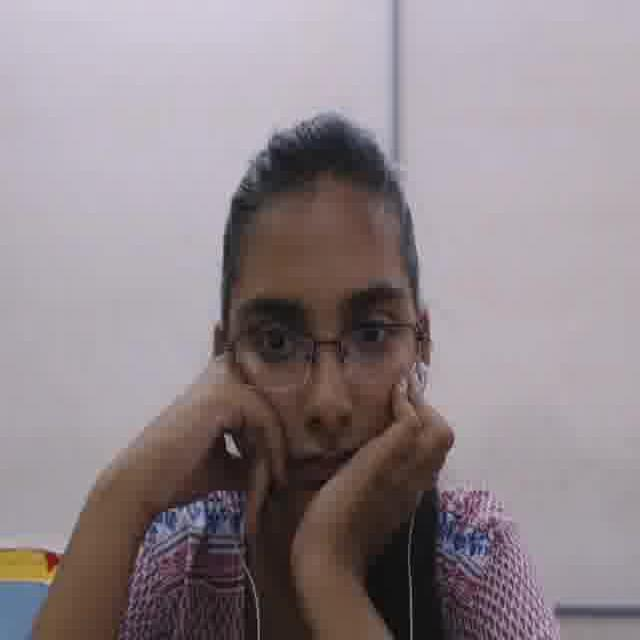Boredom: (219, 196, 414, 549)
